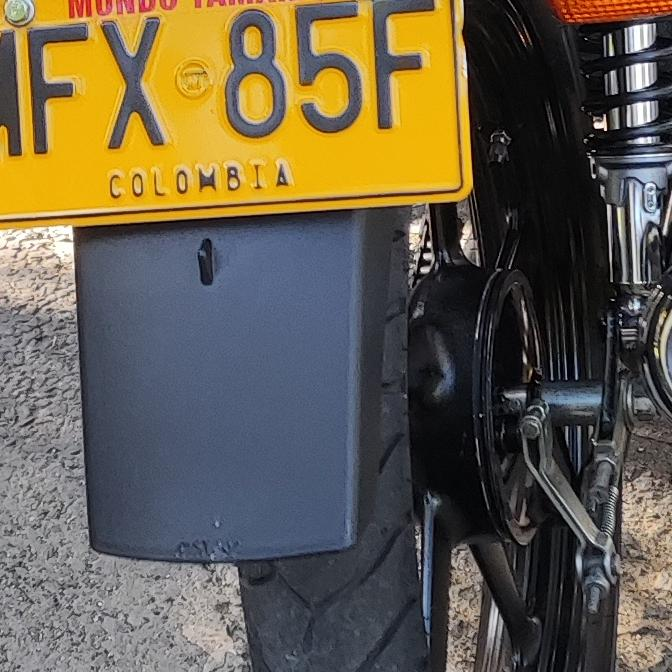plates: (0, 0, 471, 225)
